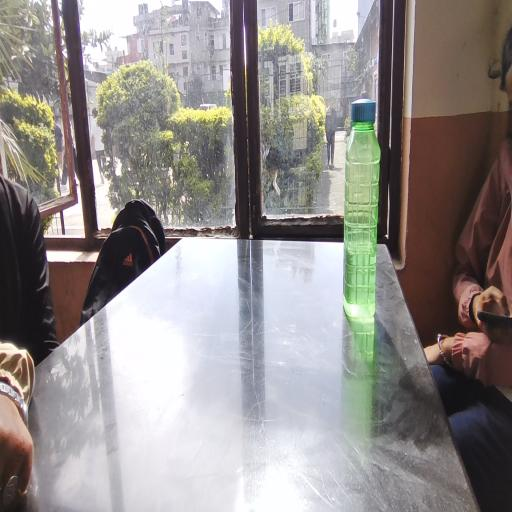Bottle: (341, 96, 399, 342)
